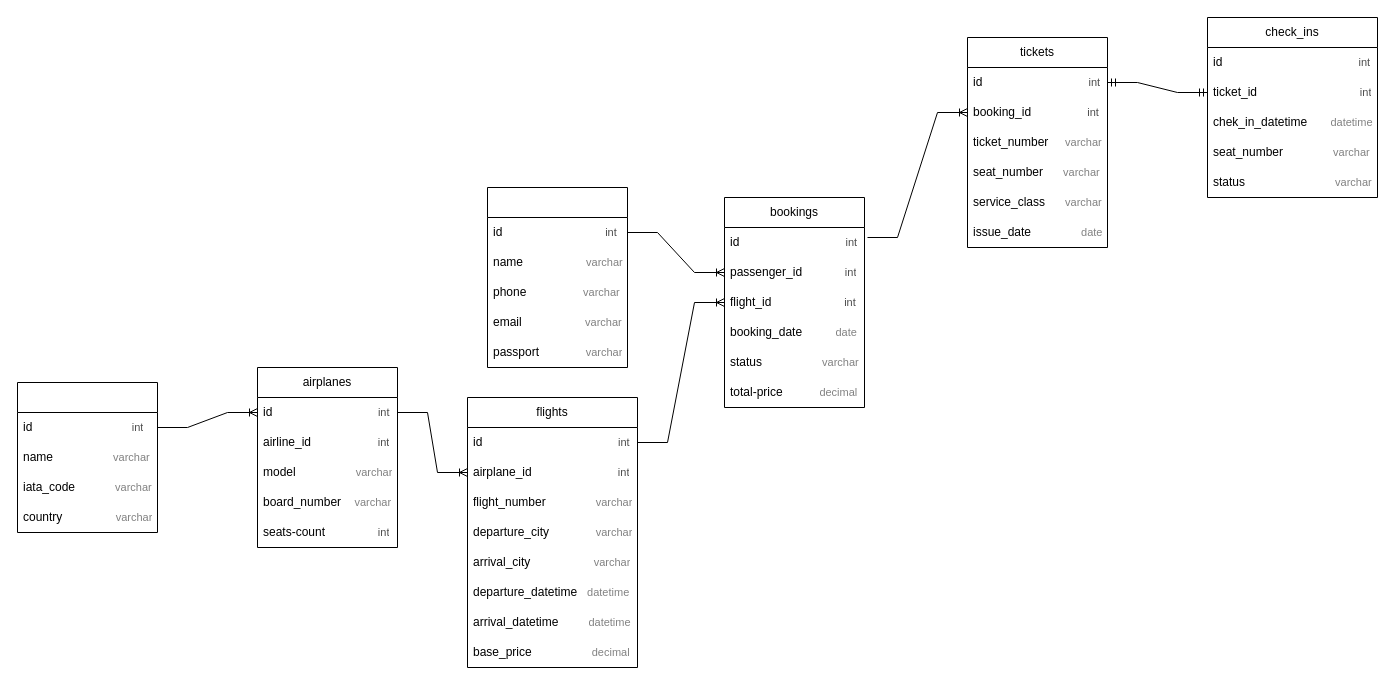
Image size: 1395x685. Some labels were removed from this diagram. Here are the shapes that lost their labels. From the top down, the box of each, then its label:
(486, 186, 628, 368): passengers
(16, 382, 158, 532): airlines
